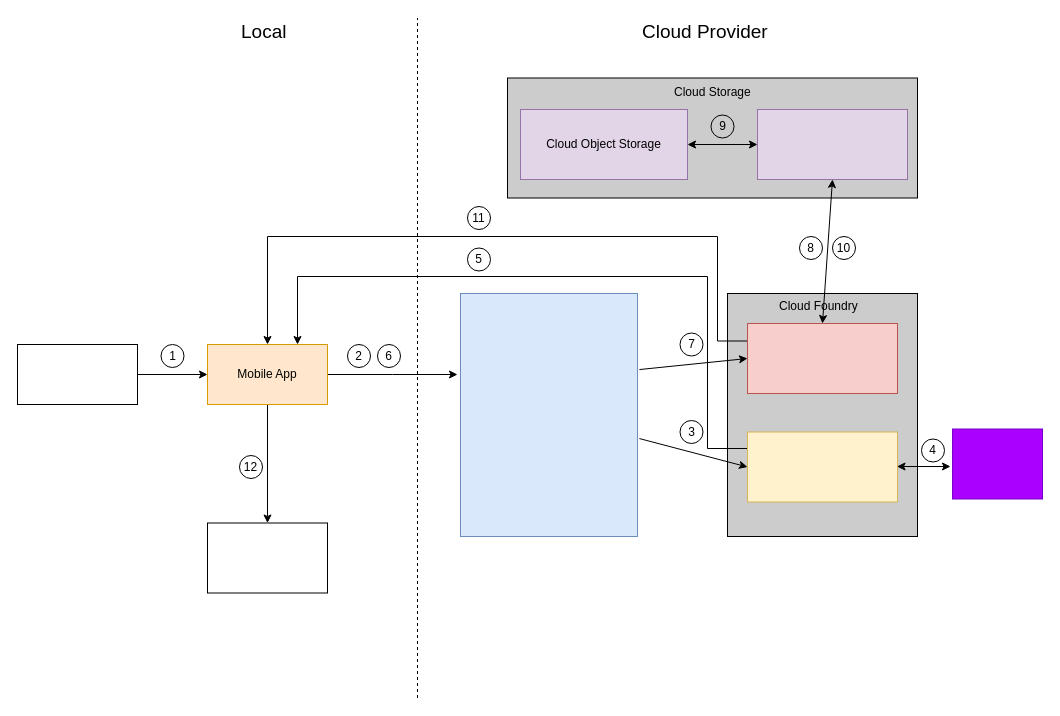
Some shapes in this 1060 by 716 pixel diagram are drawn without their labels. The centre of each missing label's shape, as x and y in pixels:
"Add to Cart" goes at (x=267, y=557).
"DB2" goes at (x=832, y=144).
"MobileFirst Foundation Platform" goes at (x=549, y=414).
"Recommendation Engine" goes at (x=822, y=358).
"USER" goes at (x=77, y=374).
"Visual Recognition" goes at (x=822, y=466).
"Watson Visual Recognition" goes at (x=997, y=463).
